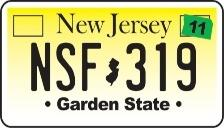1: (154, 40, 171, 94)
2: (54, 40, 77, 93)
3: (124, 41, 148, 93)
9: (174, 41, 199, 93)
F: (79, 40, 105, 94)
N: (29, 40, 53, 93)
